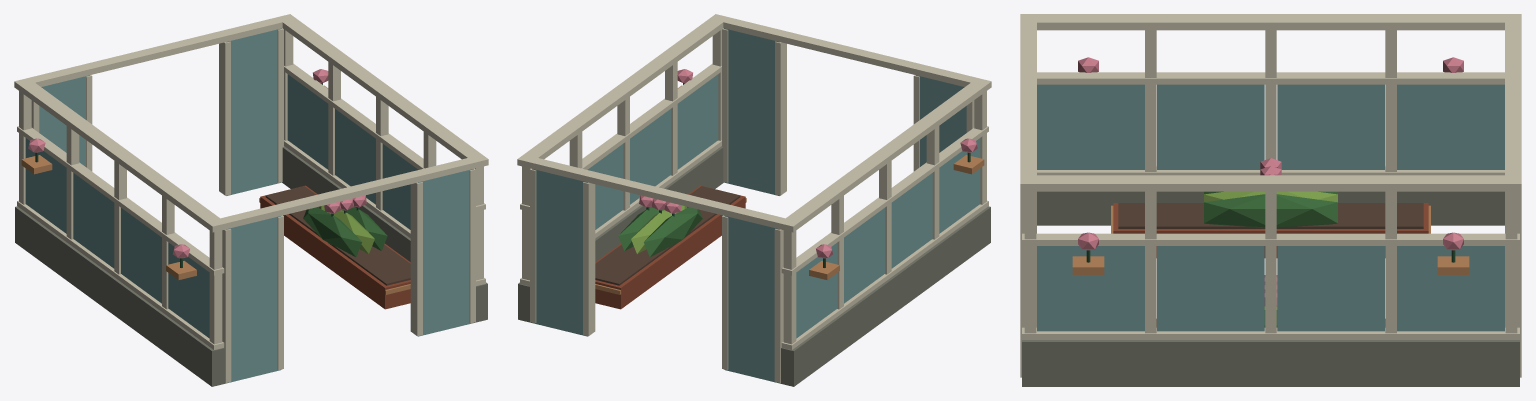
The model's file is Backyard_GreenhousePassage_Showcase.glb.
3 views of the same model, side by side, from view 1: azimuth 30°, elevation 25°; view 2: azimuth 150°, elevation 25°; view 3: azimuth 270°, elevation 25° (orthographic). The views are drawn at different scales.
Visible parts, largest first — view 1: Backyard_GreenhousePassage_Showcase; view 2: Backyard_GreenhousePassage_Showcase; view 3: Backyard_GreenhousePassage_Showcase.
Part boxes in pixels (x1,y1,x2,y2): Backyard_GreenhousePassage_Showcase: [14, 14, 488, 386]; Backyard_GreenhousePassage_Showcase: [517, 14, 991, 386]; Backyard_GreenhousePassage_Showcase: [1020, 14, 1521, 386].
Size of the model in its own units: 5.32 by 2.7 by 6.04.
